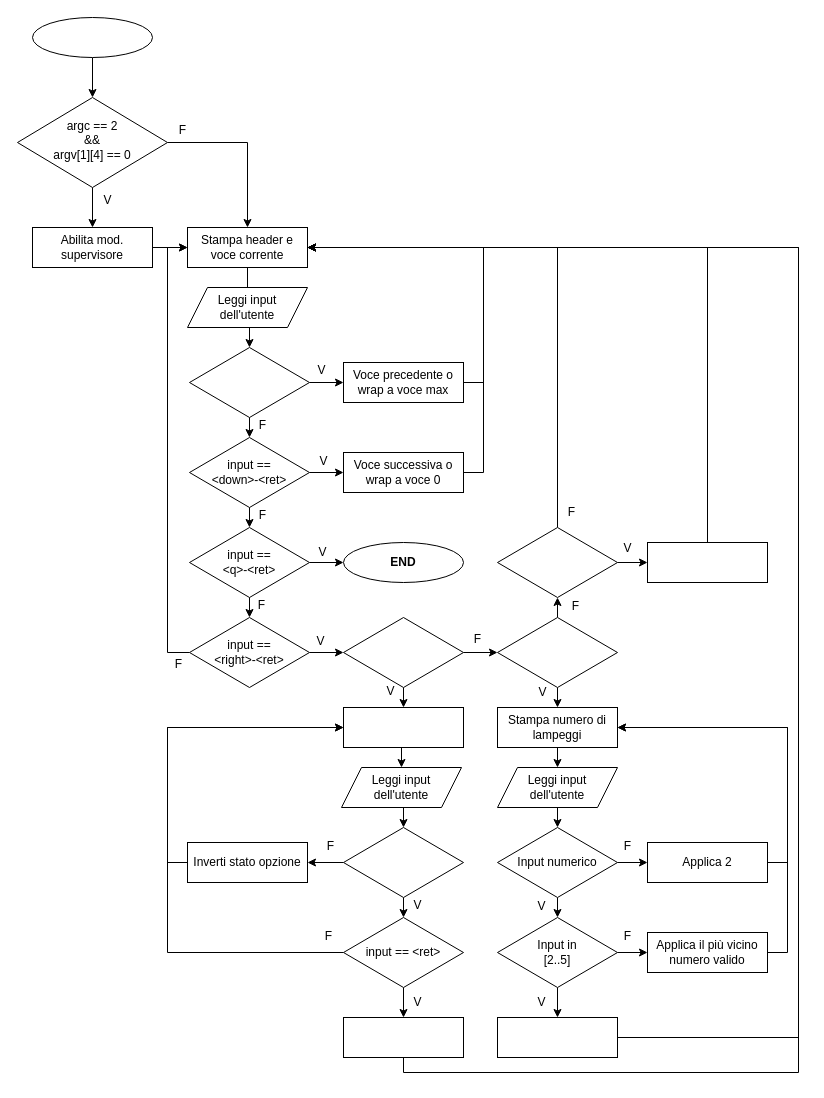
Image size: 824x1098. Some labels were removed from this diagram. Each missing label, with the box of its shape:
curr_voce == 7: (496, 616, 618, 688)
curr_voce == 8: (496, 526, 618, 598)
curr_voce in {3,5}: (342, 616, 464, 688)
input == <up>-<ret>: (188, 346, 310, 418)
input == {<up>,<down>} -<ret>: (342, 826, 464, 898)
Salva numero di lampeggi: (496, 1016, 618, 1058)
Salva stato opzione: (342, 1016, 464, 1058)
Stampa messaggio di reset pressione: (646, 542, 768, 582)
Stampa stato attuale tra ON/OFF: (342, 706, 464, 748)
START: (32, 16, 152, 58)
